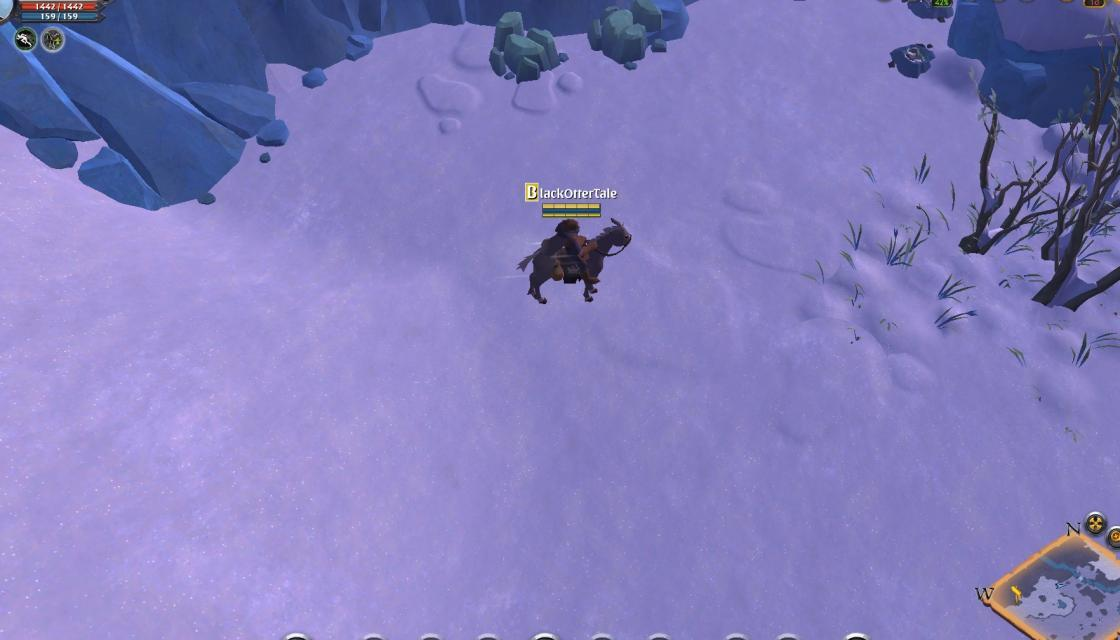sandstone: (486, 6, 564, 84), (588, 0, 671, 66)
